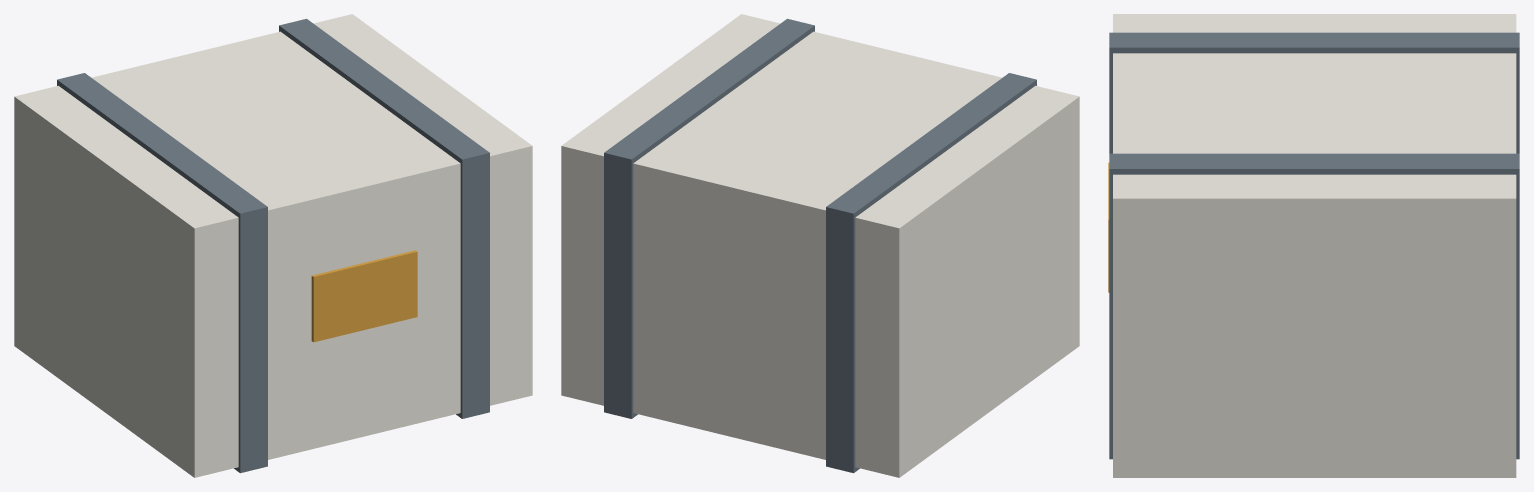
File: dragon_capsule.cutaway.cargo_rack_02.cargo_pack_15.glb
The picture shows the model from 3 angles, left to right: view 1: azimuth 30°, elevation 25°; view 2: azimuth 150°, elevation 25°; view 3: azimuth 270°, elevation 25°; orthographic projection. The views are drawn at different scales.
Visible parts, largest first — view 1: dragon_capsule.cutaway.cargo_rack_02.cargo_pack_15.mesh_Warm, dragon_capsule.cutaway.cargo_rack_02.cargo_pack_15.mesh_Mach, dragon_capsule.cutaway.cargo_rack_02.cargo_pack_15.mesh_Gold; view 2: dragon_capsule.cutaway.cargo_rack_02.cargo_pack_15.mesh_Warm, dragon_capsule.cutaway.cargo_rack_02.cargo_pack_15.mesh_Mach; view 3: dragon_capsule.cutaway.cargo_rack_02.cargo_pack_15.mesh_Warm, dragon_capsule.cutaway.cargo_rack_02.cargo_pack_15.mesh_Mach.
Part boxes in pixels (box(x1,y1,x2,y2)): dragon_capsule.cutaway.cargo_rack_02.cargo_pack_15.mesh_Warm: box(14, 14, 532, 477); dragon_capsule.cutaway.cargo_rack_02.cargo_pack_15.mesh_Mach: box(57, 18, 489, 473); dragon_capsule.cutaway.cargo_rack_02.cargo_pack_15.mesh_Gold: box(311, 250, 417, 342); dragon_capsule.cutaway.cargo_rack_02.cargo_pack_15.mesh_Warm: box(561, 14, 1079, 477); dragon_capsule.cutaway.cargo_rack_02.cargo_pack_15.mesh_Mach: box(604, 18, 1036, 473); dragon_capsule.cutaway.cargo_rack_02.cargo_pack_15.mesh_Warm: box(1113, 14, 1516, 477); dragon_capsule.cutaway.cargo_rack_02.cargo_pack_15.mesh_Mach: box(1109, 32, 1519, 459).
Size of the model in its own units: 0.39 by 0.286 by 0.367.
